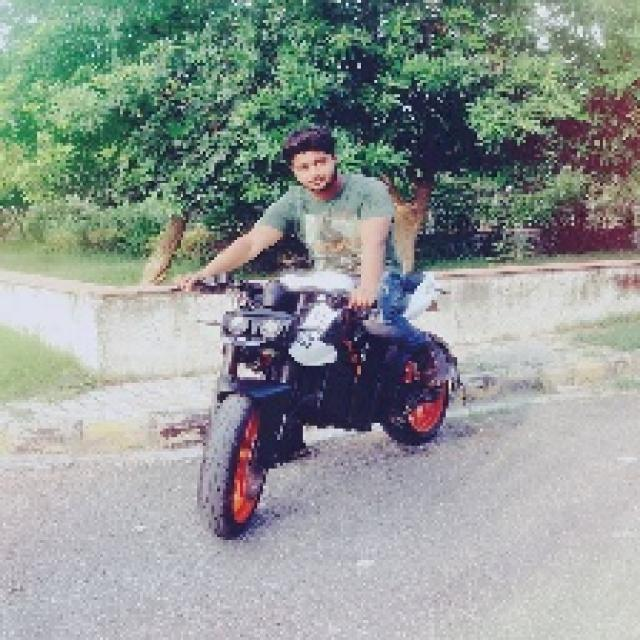bike: (185, 269, 466, 557)
